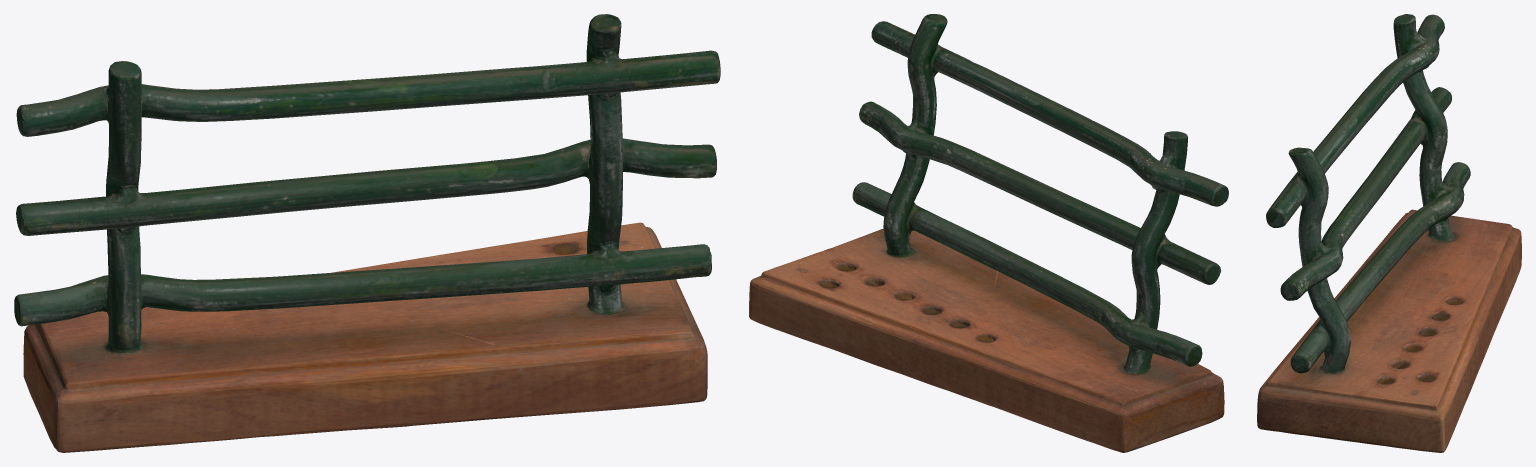
The picture shows the model from 3 angles, left to right: view 1: azimuth 30°, elevation 25°; view 2: azimuth 150°, elevation 25°; view 3: azimuth 270°, elevation 25°; orthographic projection. The views are drawn at different scales.
Visible parts, largest first — view 1: Bauzaun_8k_2k; view 2: Bauzaun_8k_2k; view 3: Bauzaun_8k_2k.
Boxes of the visible parts, box(x1,y1,x2,y2) form: Bauzaun_8k_2k: box(14, 14, 720, 452); Bauzaun_8k_2k: box(749, 14, 1228, 452); Bauzaun_8k_2k: box(1257, 14, 1521, 452).
Size of the model in its own units: 0.3759 by 0.2111 by 0.1967.
1 material, 1 textured.
